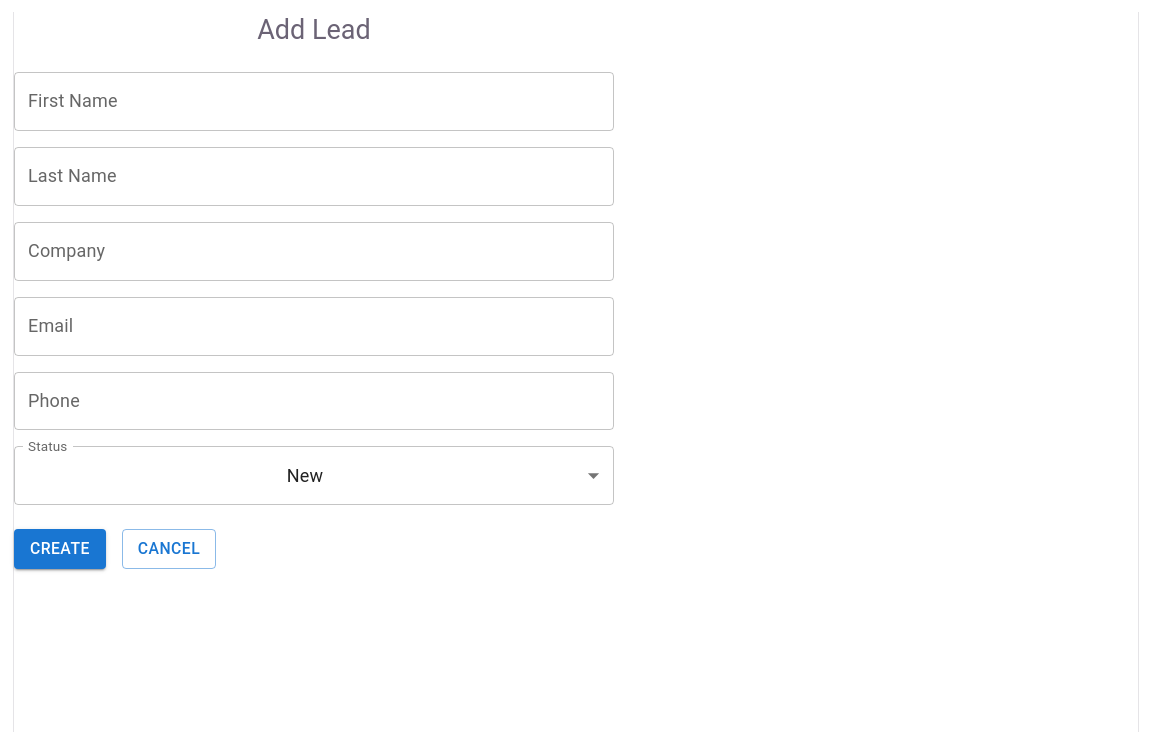
Test: LeadFormPage › shows validation error when First Name is empty on submit
Step 1. Click the button "Create" → coordinates (60, 549), box [14,529,106,569]
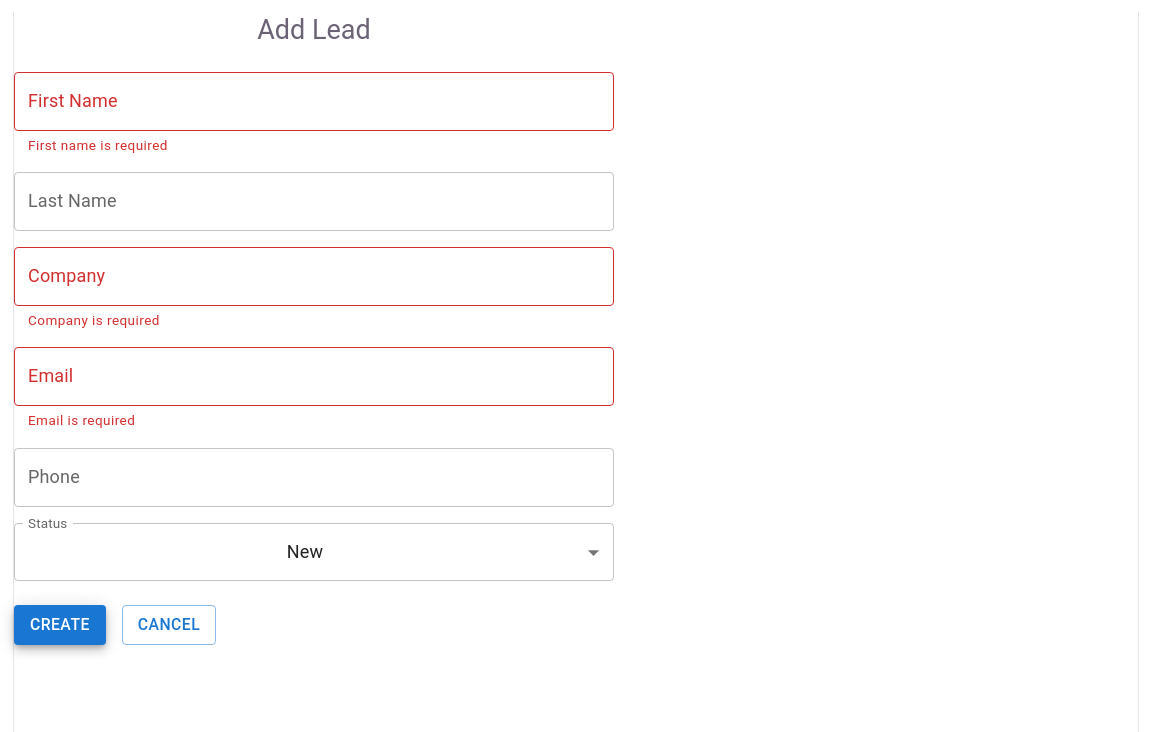
Expected: the text "First name is required" is shown, [28,137,168,153]
